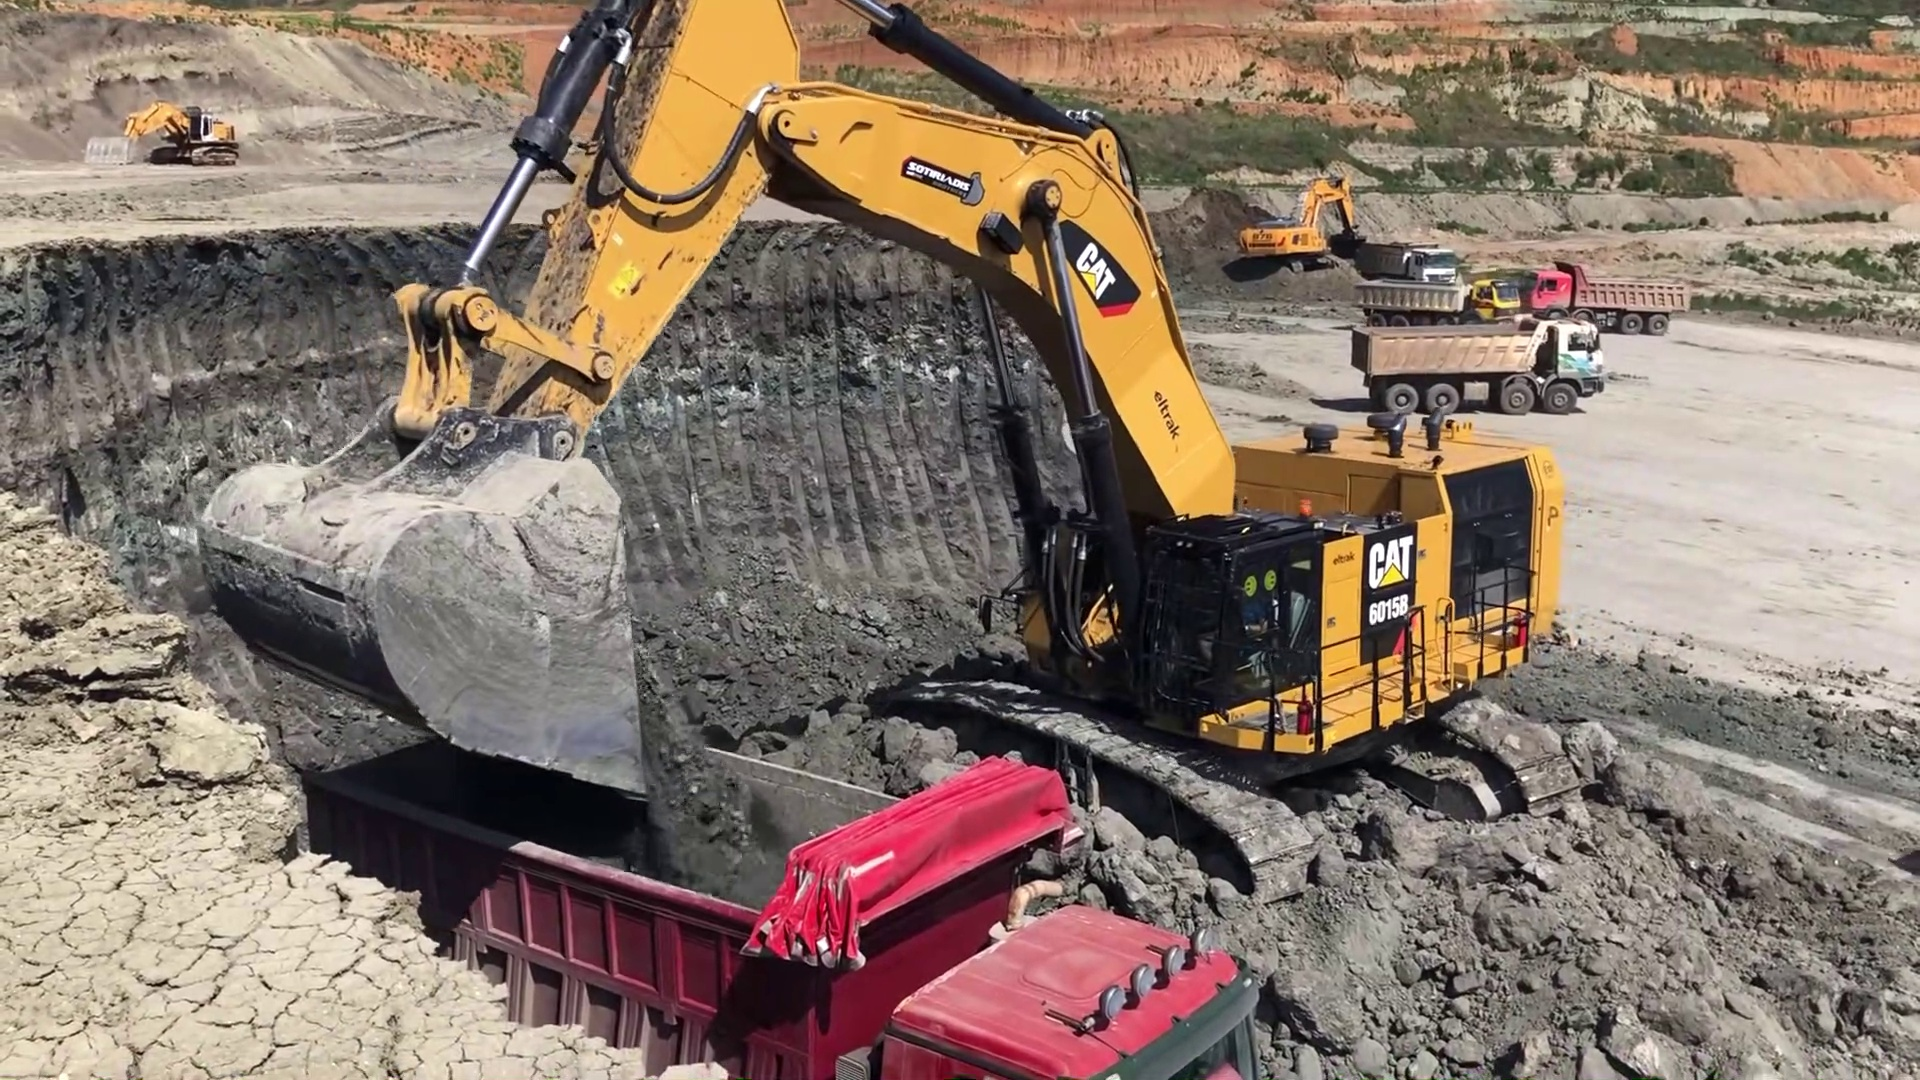excavator: (196, 1, 1596, 902), (1236, 165, 1370, 280), (84, 104, 251, 174)
truck: (294, 732, 1255, 1080), (1356, 309, 1601, 414), (1538, 257, 1688, 336), (1362, 274, 1528, 324), (1367, 232, 1462, 289)
